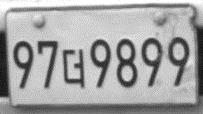7: (36, 39, 58, 88)
8: (115, 37, 138, 87)
9: (140, 36, 164, 87), (166, 36, 190, 86), (89, 38, 111, 87), (12, 39, 33, 89)
더: (62, 48, 85, 89)
